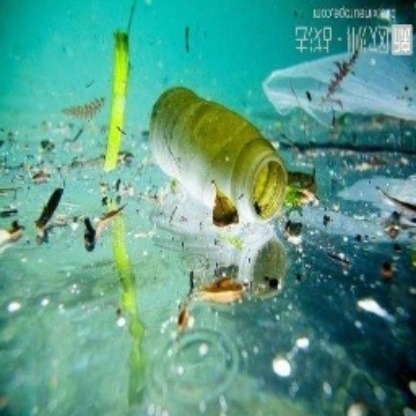bottle: (148, 85, 288, 220)
